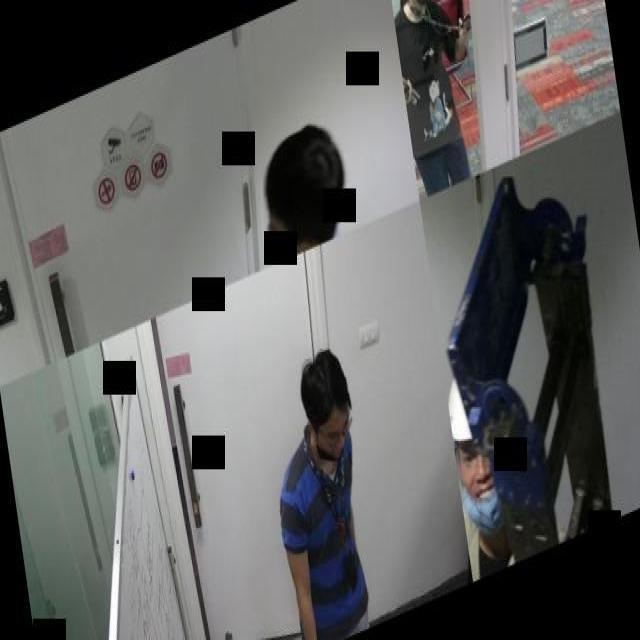hairnet: (456, 436, 503, 530), (316, 407, 352, 464)
